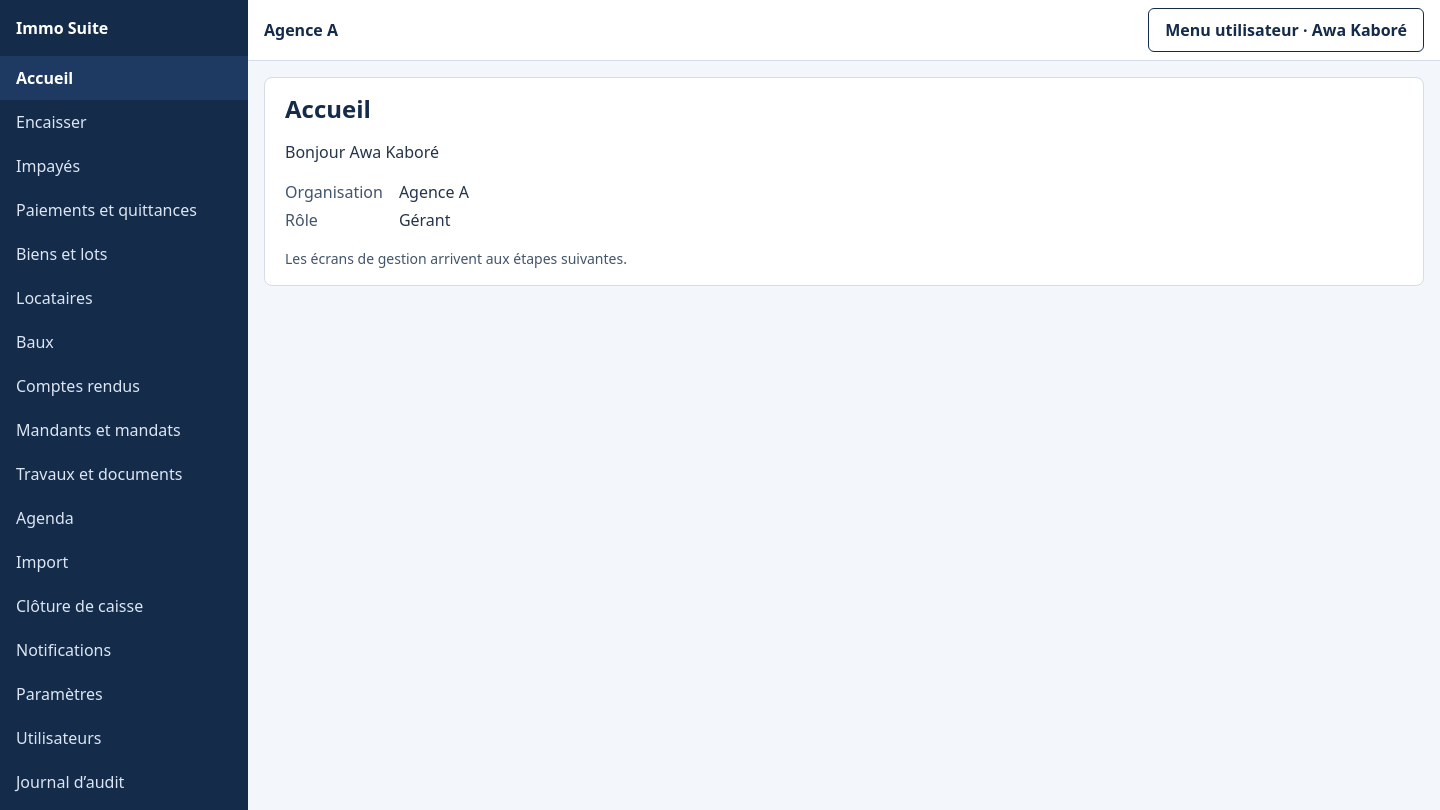
Test: « Signaler un problème » › une description trop courte affiche le résumé d’erreur et n’envoie rien
This screenshot has width=1440, height=810.
Click the button "Menu utilisateur · Awa Kaboré" at (1286,30), box [1148, 8, 1424, 52]
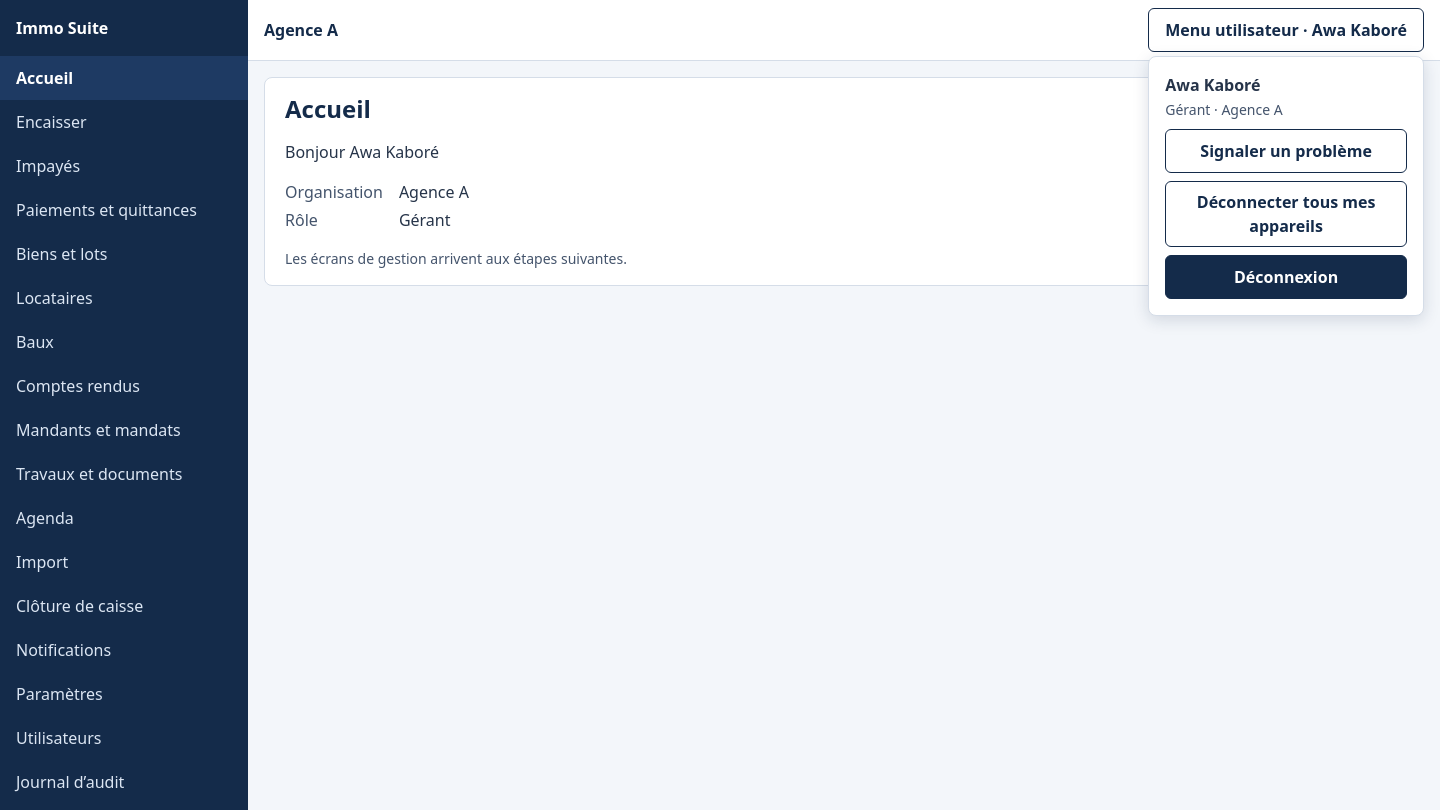
Click the button "Signaler un problème" at (1286,151), box [1165, 129, 1407, 173]
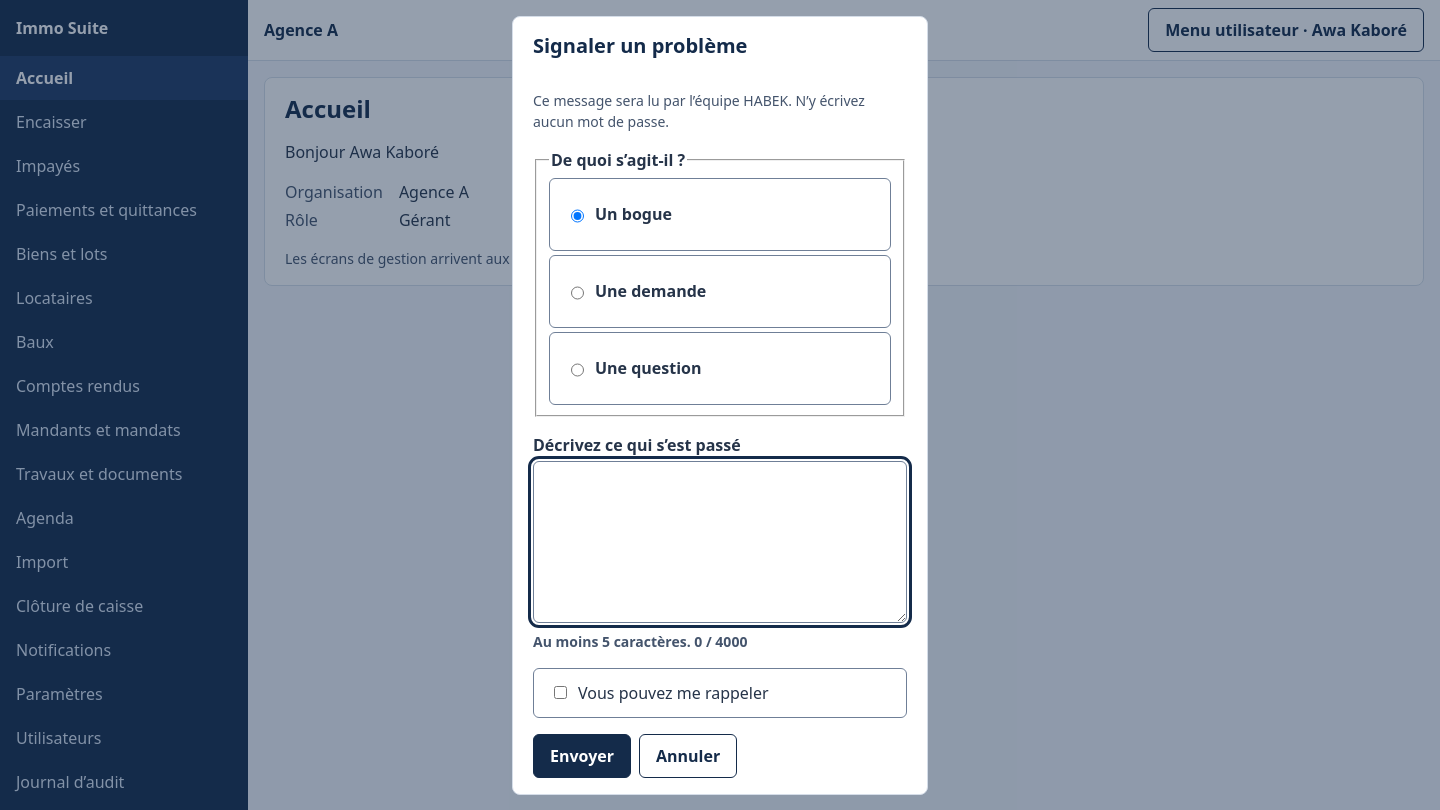
Type "abc" into the text box labelled "Décrivez ce qui s’est passé" at (720,542), box [533, 461, 907, 623]
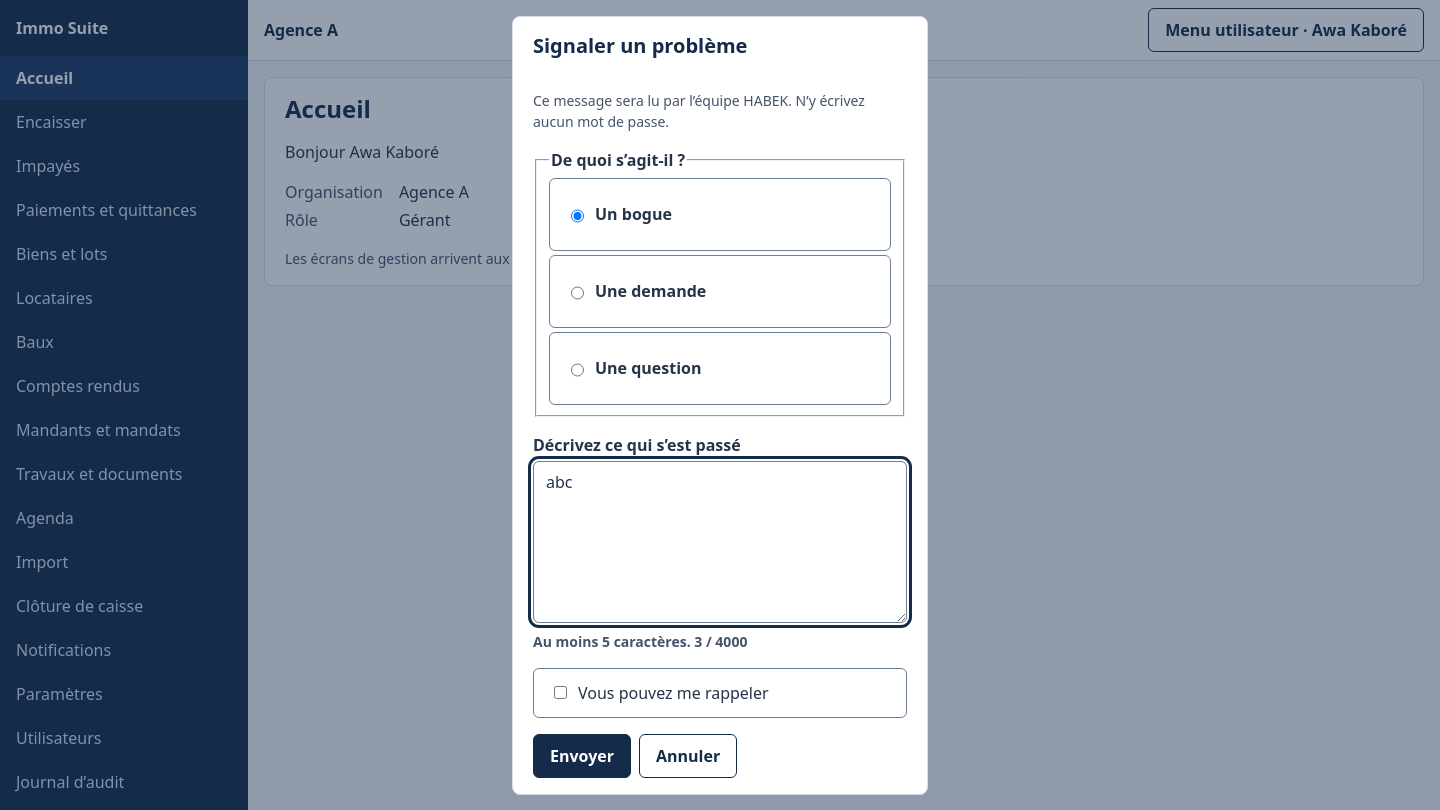
Click the button "Envoyer" at (582,756), box [533, 734, 631, 778]
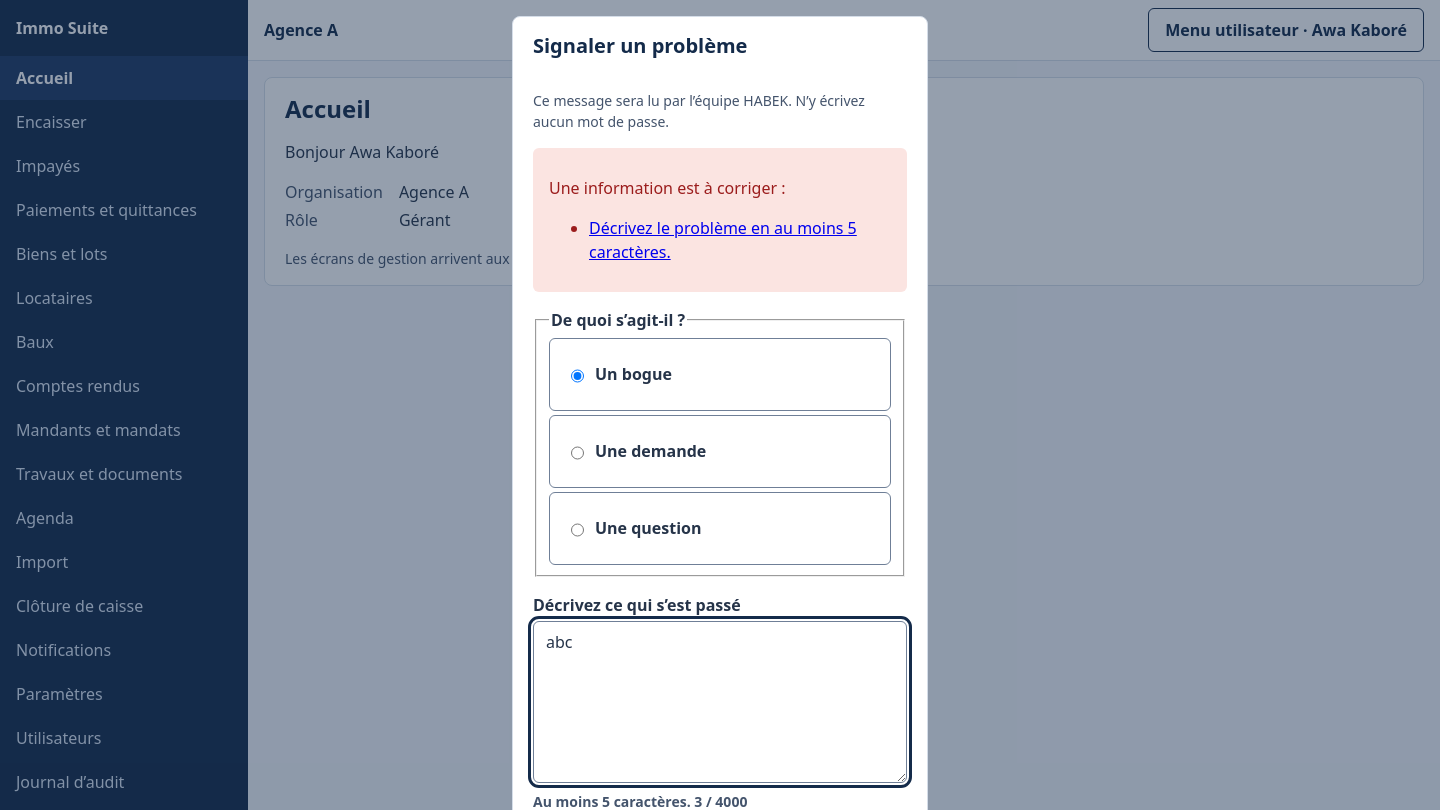
Expected: the message shows "Décrivez le problème en au moins 5 caractères.", [589, 217, 857, 263]
